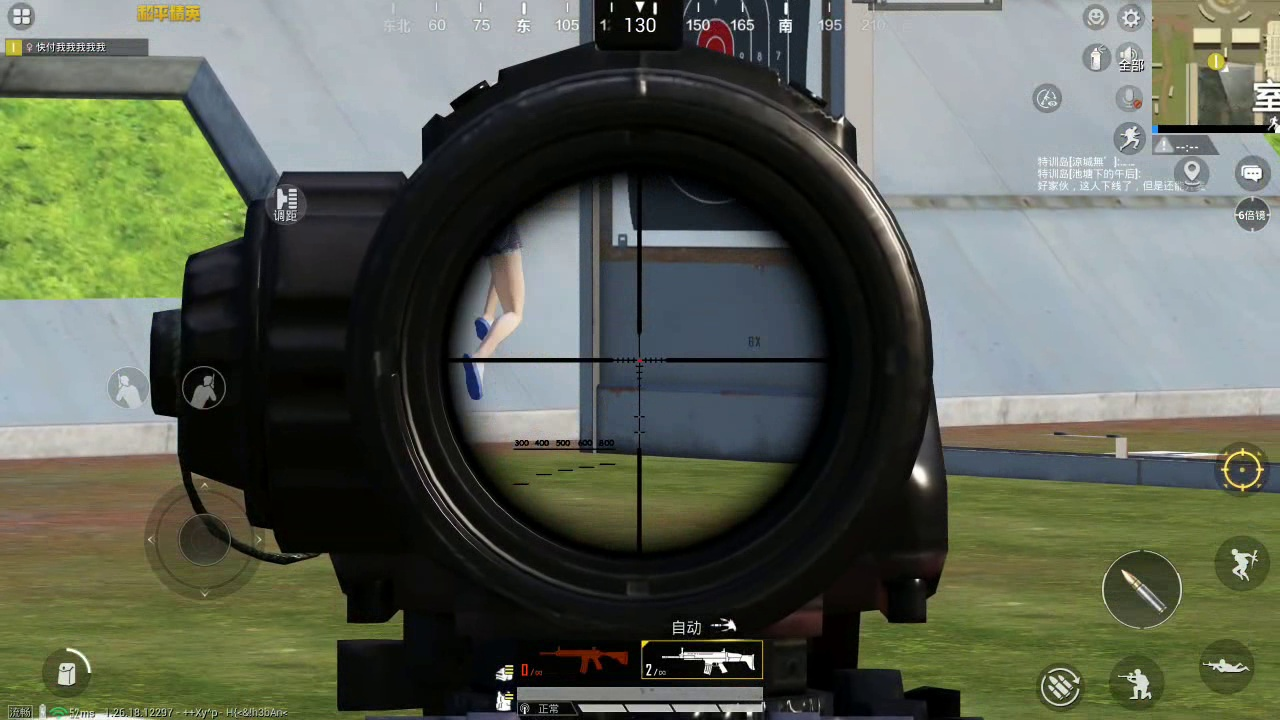enemy: (457, 205, 532, 400)
